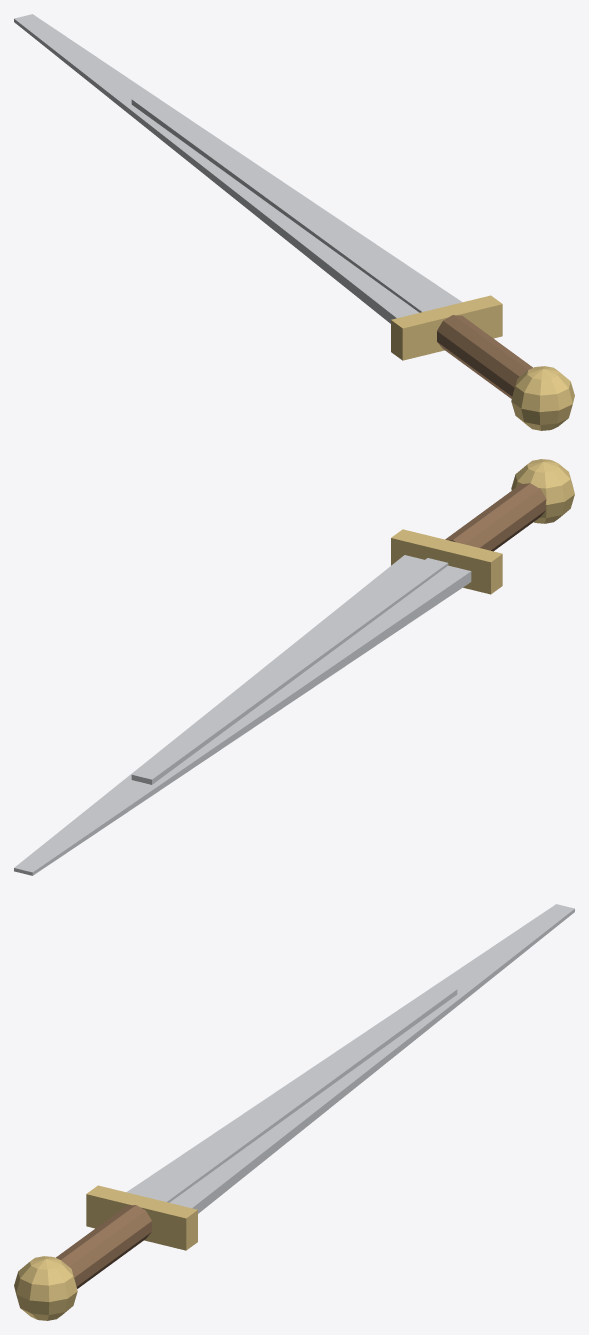
The model's file is gladius.glb.
3 renders of one model, top to bottom at view 1: azimuth 30°, elevation 25°; view 2: azimuth 150°, elevation 25°; view 3: azimuth 330°, elevation 25°, orthographic.
Visible parts, largest first — view 1: gladius; view 2: gladius; view 3: gladius.
Part boxes in pixels (x1,y1,x2,y2): gladius: [14, 14, 574, 430]; gladius: [14, 459, 574, 875]; gladius: [14, 904, 574, 1320].
Size of the model in its own units: 0.078 by 0.044 by 0.724.
